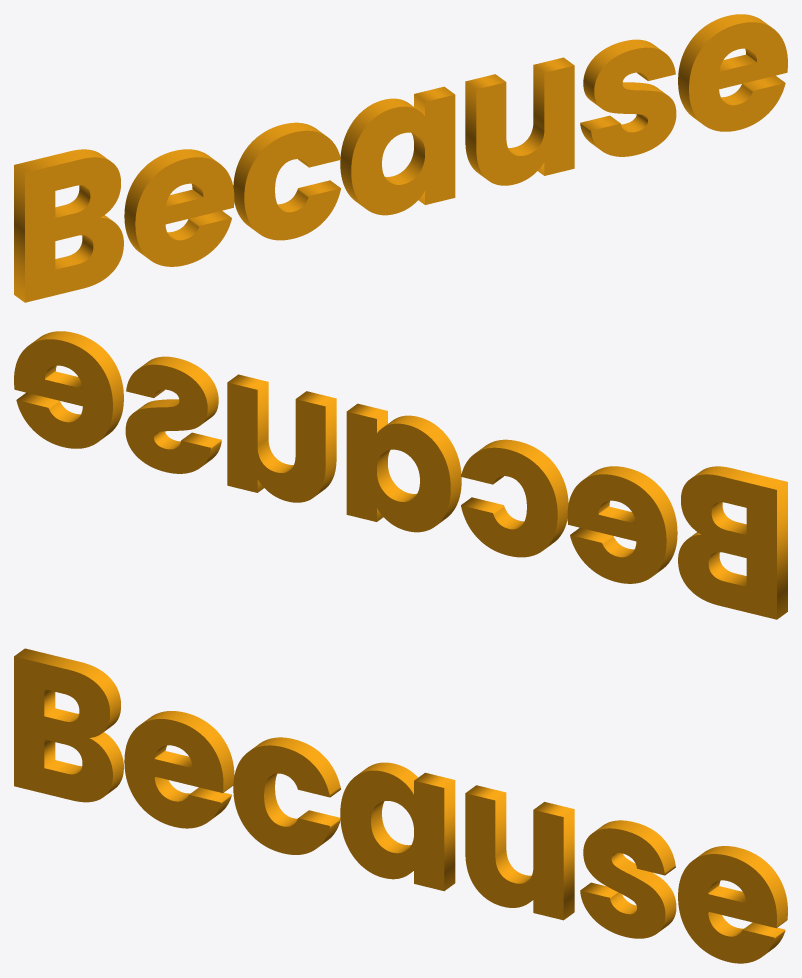
File: Because.gltf
3 views of the same model, one above another, from view 1: azimuth 30°, elevation 25°; view 2: azimuth 150°, elevation 25°; view 3: azimuth 330°, elevation 25° (orthographic).
Parts seen in each view (by area): view 1: simsekyazi.009; view 2: simsekyazi.009; view 3: simsekyazi.009.
Boxes of the visible parts, x1,y1,x2,y2 form: simsekyazi.009: [14, 14, 787, 302]; simsekyazi.009: [14, 331, 787, 619]; simsekyazi.009: [14, 648, 787, 963].
Bounding box in the file's own units: 0.2351 × 0.0387 × 0.00586.
